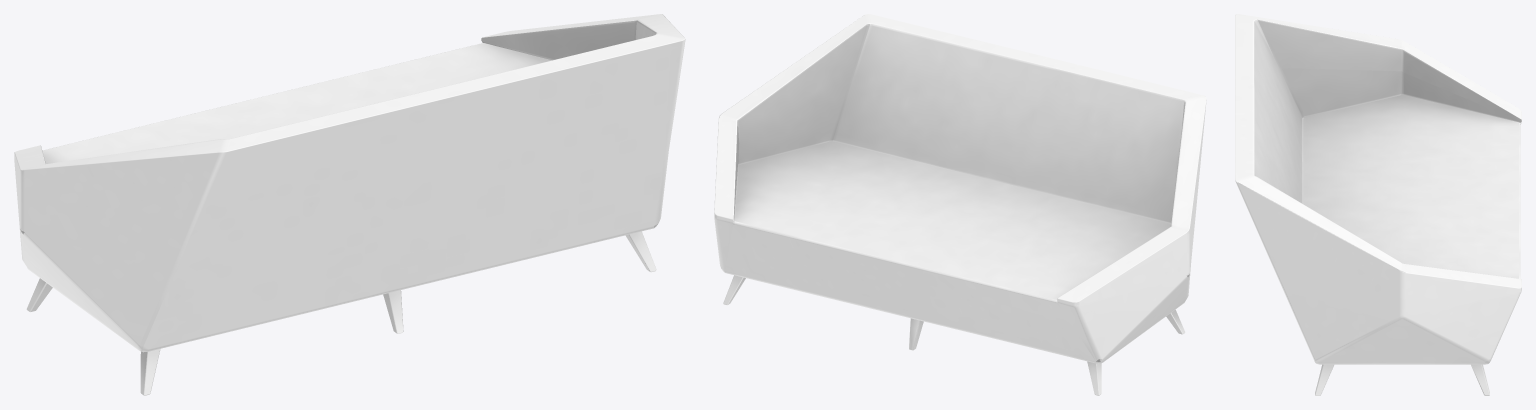
The model's file is BenchBack.glb.
3 renders of one model, left to right at view 1: azimuth 30°, elevation 25°; view 2: azimuth 150°, elevation 25°; view 3: azimuth 270°, elevation 25°, orthographic. The views are drawn at different scales.
Parts seen in each view (by area): view 1: BenchBack, BenchBack.001; view 2: BenchBack, BenchBack.001; view 3: BenchBack, BenchBack.001.
Part boxes in pixels (x1=…): BenchBack: x1=14, y1=14, x2=685, y2=352; BenchBack.001: x1=26, y1=231, x2=656, y2=395; BenchBack: x1=714, y1=14, x2=1206, y2=363; BenchBack.001: x1=723, y1=275, x2=1185, y2=395; BenchBack: x1=1235, y1=14, x2=1521, y2=364; BenchBack.001: x1=1315, y1=364, x2=1489, y2=395.
Bounding box in the file's own units: 2.64 × 1.09 × 1.38.
1 material, 1 textured.
